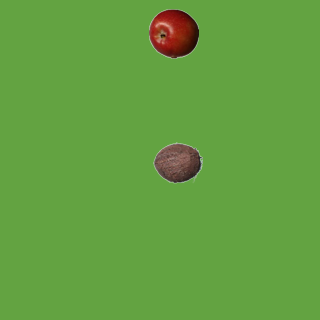Apple Braeburn: (148, 8, 198, 58)
Cocos: (152, 137, 202, 187)
